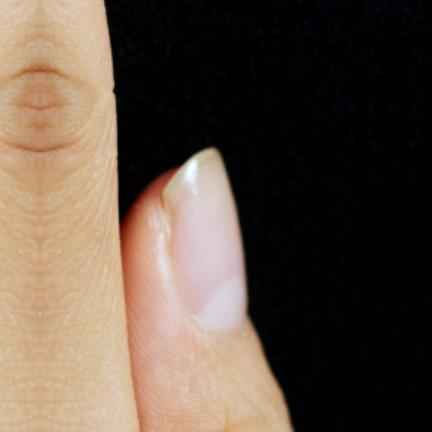Nail: (160, 148, 246, 331)
